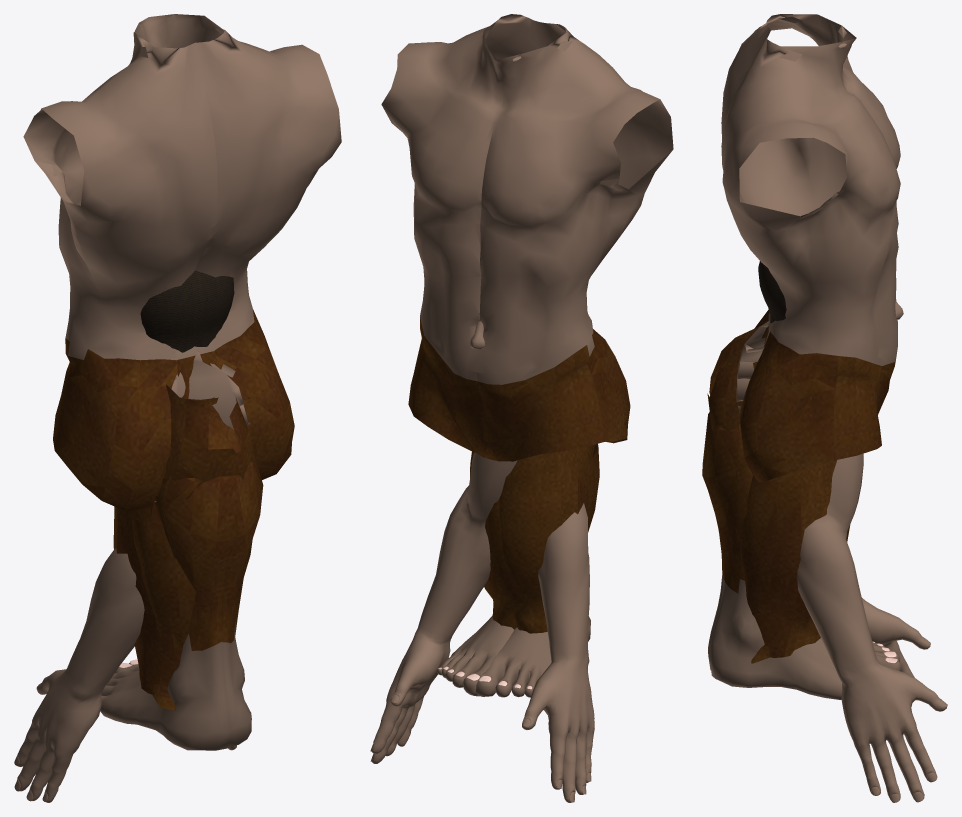
The model's file is Civilian.fbx.
The picture shows the model from 3 angles, left to right: view 1: azimuth 30°, elevation 25°; view 2: azimuth 150°, elevation 25°; view 3: azimuth 270°, elevation 25°; orthographic projection. The views are drawn at different scales.
Parts seen in each view (by area): view 1: Body1, LeftKnee1, LeftHand1, LeftLeg1, RightLeg1, RightKnee1, Head1; view 2: Body1, LeftHand1, LeftHand2, LeftLeg1, LeftKnee1, RightLeg1, RightKnee1; view 3: Body1, LeftHand2, RightKnee1, RightLeg1, LeftHand1, LeftLeg1, Head1, LeftKnee1.
Boxes of the visible parts, x1,y1,x2,y2 form: Body1: [23, 14, 341, 510]; LeftKnee1: [100, 397, 238, 750]; LeftHand1: [14, 351, 249, 802]; LeftLeg1: [113, 384, 252, 710]; RightLeg1: [132, 397, 253, 647]; RightKnee1: [129, 397, 263, 747]; Head1: [140, 270, 234, 352]; Body1: [381, 14, 673, 461]; LeftHand1: [522, 503, 594, 802]; LeftHand2: [370, 452, 517, 763]; LeftLeg1: [499, 445, 593, 633]; LeftKnee1: [476, 444, 594, 697]; RightLeg1: [470, 444, 599, 629]; RightKnee1: [437, 615, 513, 696]; Body1: [721, 14, 900, 482]; LeftHand2: [797, 453, 947, 802]; RightKnee1: [704, 420, 901, 699]; RightLeg1: [707, 361, 850, 663]; LeftHand1: [736, 321, 930, 677]; LeftLeg1: [709, 325, 782, 556]; Head1: [758, 214, 903, 323]; LeftKnee1: [702, 349, 899, 670].
Bounding box in the file's own units: 37.94 × 106 × 32.31.
9 materials, 3 textured.
